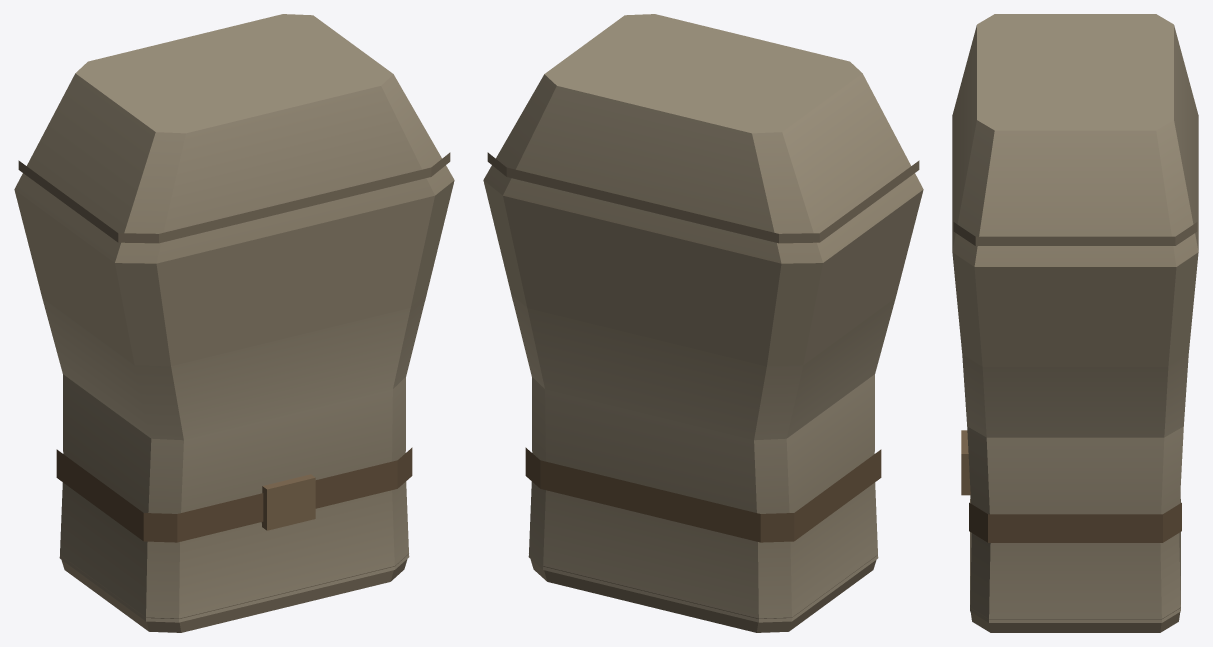
The picture shows the model from 3 angles, left to right: view 1: azimuth 30°, elevation 25°; view 2: azimuth 150°, elevation 25°; view 3: azimuth 270°, elevation 25°; orthographic projection.
Parts seen in each view (by area): view 1: padded_tunic; view 2: padded_tunic; view 3: padded_tunic.
Boxes of the visible parts, x1,y1,x2,y2 form: padded_tunic: [14, 14, 454, 632]; padded_tunic: [483, 14, 923, 632]; padded_tunic: [952, 14, 1198, 632].
Size of the model in its own units: 0.448 by 0.625 by 0.28.
